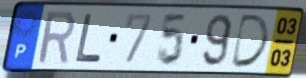5: (154, 12, 191, 68)
7: (123, 12, 154, 66)
9: (200, 13, 234, 68)
D: (228, 12, 272, 70)
L: (74, 12, 104, 65)
R: (36, 9, 76, 66)
